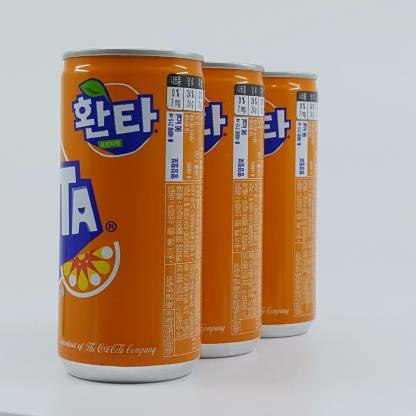-------215ML: (57, 48, 205, 383)
